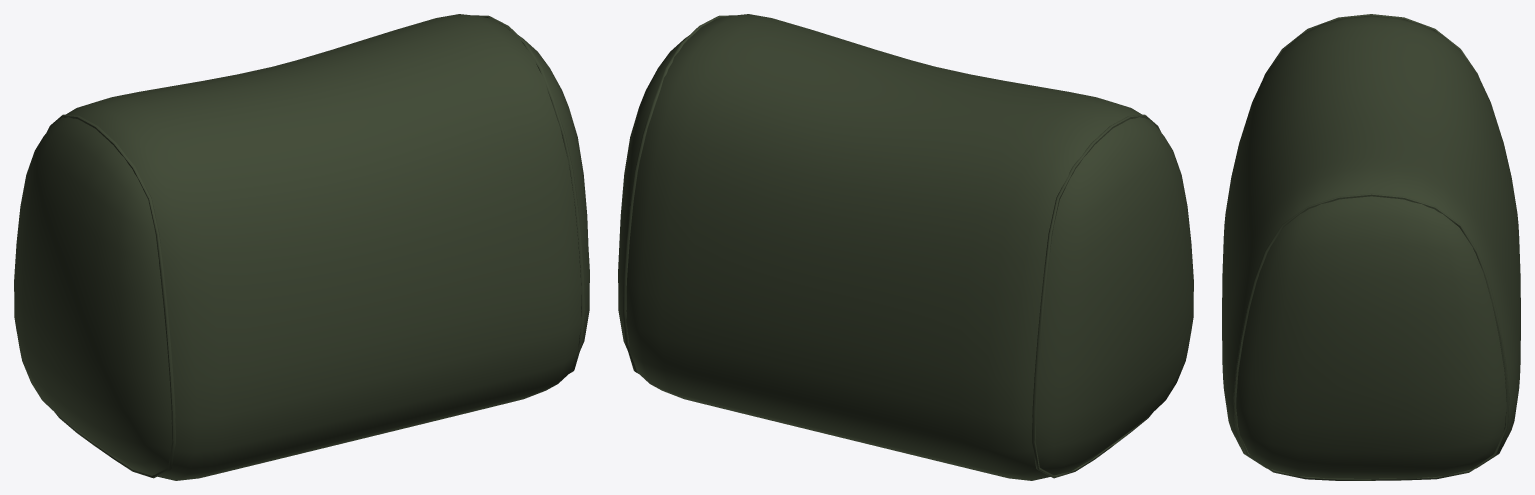
The model's file is chair_31_01.001.fbx.
The picture shows the model from 3 angles, left to right: view 1: azimuth 30°, elevation 25°; view 2: azimuth 150°, elevation 25°; view 3: azimuth 270°, elevation 25°; orthographic projection. The views are drawn at different scales.
Visible parts, largest first — view 1: chair_31_01.001; view 2: chair_31_01.001; view 3: chair_31_01.001.
Boxes of the visible parts, x1=… form: chair_31_01.001: x1=14, y1=14, x2=589, y2=480; chair_31_01.001: x1=618, y1=14, x2=1193, y2=480; chair_31_01.001: x1=1222, y1=14, x2=1520, y2=480.
Size of the model in its own units: 59.11 by 38.49 by 34.43.
1 material, 1 textured.
